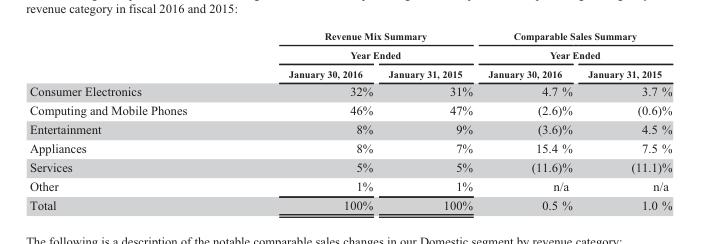table: (28, 28, 671, 212)
table column: (28, 28, 237, 212), (237, 28, 380, 212), (479, 28, 579, 212), (380, 28, 479, 212), (579, 28, 671, 212)
table column header: (28, 28, 671, 81)
table row: (28, 28, 671, 63), (28, 81, 671, 100), (28, 100, 671, 119), (28, 119, 671, 138), (28, 138, 671, 157), (28, 157, 671, 176), (28, 176, 671, 195), (28, 63, 671, 81), (28, 195, 671, 212)
table spanning cell: (237, 28, 479, 63), (479, 28, 671, 63)
